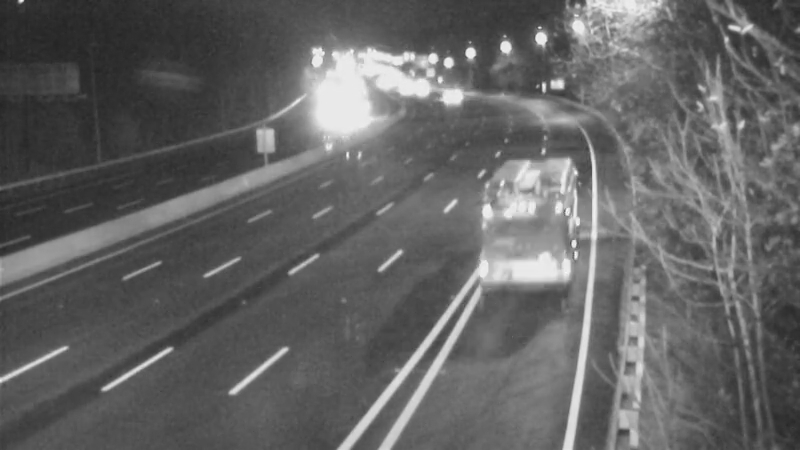vehicle: (487, 188, 567, 268), (427, 72, 477, 122), (309, 92, 359, 142)
